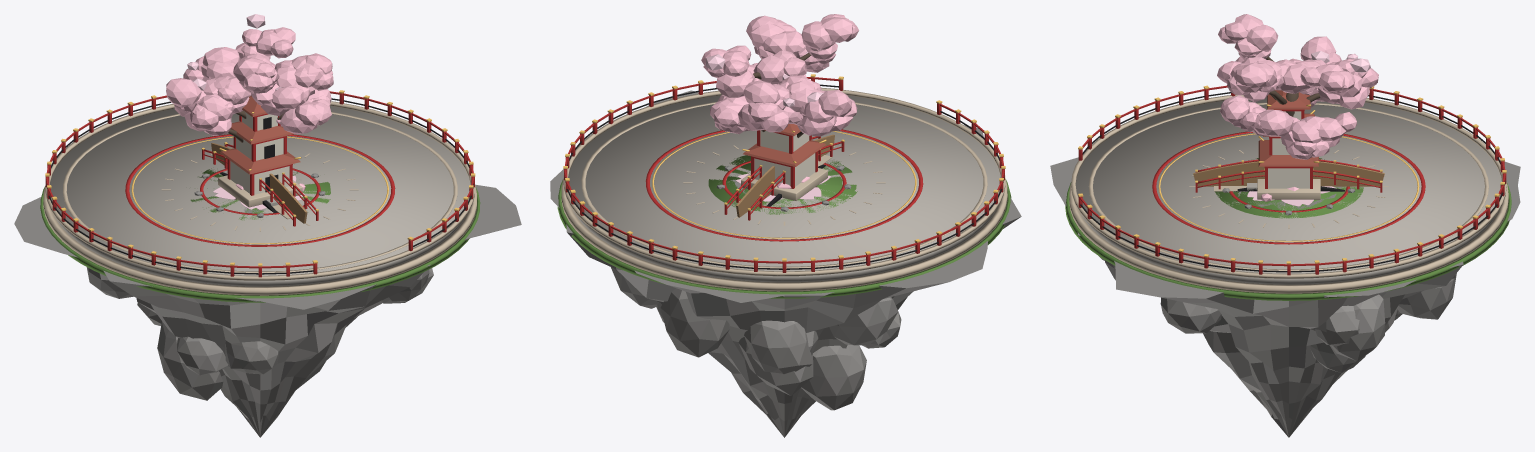
The model's file is Blossom.glb.
3 renders of one model, left to right at view 1: azimuth 30°, elevation 25°; view 2: azimuth 150°, elevation 25°; view 3: azimuth 270°, elevation 25°, orthographic. The views are drawn at different scales.
Visible parts, largest first — view 1: ShrineArena__Stone_S1, ShrineArena__Rock_1, GreatSakura__Blossom_1, ShrineArena__StoneWarm_1, ShrineArena__StoneWarm_S1, ShrineArena__Red_1, ShrineArena__Grass_1, Pagoda__Tile_1, ShrineArena__Red_S1, ShrineArena__Gold_1, Pagoda__Plaster_S1, ShrineArena__Black_1 (+5 smaller); view 2: ShrineArena__Stone_S1, ShrineArena__Rock_1, GreatSakura__Blossom_1, ShrineArena__StoneWarm_1, ShrineArena__StoneWarm_S1, ShrineArena__Red_1, ShrineArena__Grass_1, ShrineArena__Red_S1, ShrineArena__Gold_1, Pagoda__Plaster_S1, ShrineArena__Black_1, Pagoda__Tile_1 (+7 smaller); view 3: ShrineArena__Stone_S1, ShrineArena__Rock_1, GreatSakura__Blossom_1, ShrineArena__StoneWarm_1, ShrineArena__StoneWarm_S1, ShrineArena__Red_1, ShrineArena__Grass_1, ArchBridge__Plank_S1, ShrineArena__Red_S1, ShrineArena__Gold_1, Pagoda__Tile_1, ShrineArena__Black_1 (+8 smaller).
Part boxes in pixels (bbox=[...]): ShrineArena__Stone_S1: bbox=[50, 106, 470, 286]; ShrineArena__Rock_1: bbox=[14, 141, 521, 437]; GreatSakura__Blossom_1: bbox=[166, 27, 333, 135]; ShrineArena__StoneWarm_1: bbox=[43, 112, 476, 295]; ShrineArena__StoneWarm_S1: bbox=[45, 101, 474, 280]; ShrineArena__Red_1: bbox=[46, 91, 474, 268]; ShrineArena__Grass_1: bbox=[40, 186, 480, 302]; Pagoda__Tile_1: bbox=[220, 95, 300, 174]; ShrineArena__Red_S1: bbox=[45, 93, 474, 277]; ShrineArena__Gold_1: bbox=[45, 90, 475, 266]; Pagoda__Plaster_S1: bbox=[230, 111, 289, 194]; ShrineArena__Black_1: bbox=[46, 98, 473, 274]; ShrineArena__Stone_S1: bbox=[568, 95, 1000, 282]; ShrineArena__Rock_1: bbox=[550, 90, 1021, 437]; GreatSakura__Blossom_1: bbox=[701, 14, 858, 136]; ShrineArena__StoneWarm_1: bbox=[561, 101, 1007, 291]; ShrineArena__StoneWarm_S1: bbox=[563, 87, 1005, 276]; ShrineArena__Red_1: bbox=[564, 77, 1004, 263]; ShrineArena__Grass_1: bbox=[557, 179, 1011, 298]; ShrineArena__Red_S1: bbox=[564, 77, 1004, 272]; ShrineArena__Gold_1: bbox=[563, 74, 1005, 261]; Pagoda__Plaster_S1: bbox=[754, 130, 815, 186]; ShrineArena__Black_1: bbox=[564, 84, 1004, 269]; Pagoda__Tile_1: bbox=[743, 124, 825, 166]; ShrineArena__Stone_S1: bbox=[1075, 97, 1501, 284]; ShrineArena__Rock_1: bbox=[1050, 157, 1520, 437]; GreatSakura__Blossom_1: bbox=[1217, 14, 1378, 159]; ShrineArena__StoneWarm_1: bbox=[1069, 102, 1508, 293]; ShrineArena__StoneWarm_S1: bbox=[1071, 94, 1506, 278]; ShrineArena__Red_1: bbox=[1080, 85, 1505, 266]; ShrineArena__Grass_1: bbox=[1065, 182, 1511, 300]; ArchBridge__Plank_S1: bbox=[1193, 161, 1384, 186]; ShrineArena__Red_S1: bbox=[1078, 88, 1506, 275]; ShrineArena__Gold_1: bbox=[1078, 85, 1506, 264]; Pagoda__Tile_1: bbox=[1258, 90, 1318, 166]; ShrineArena__Black_1: bbox=[1080, 92, 1505, 272].
Size of the model in its own units: 166 by 155 by 163.
